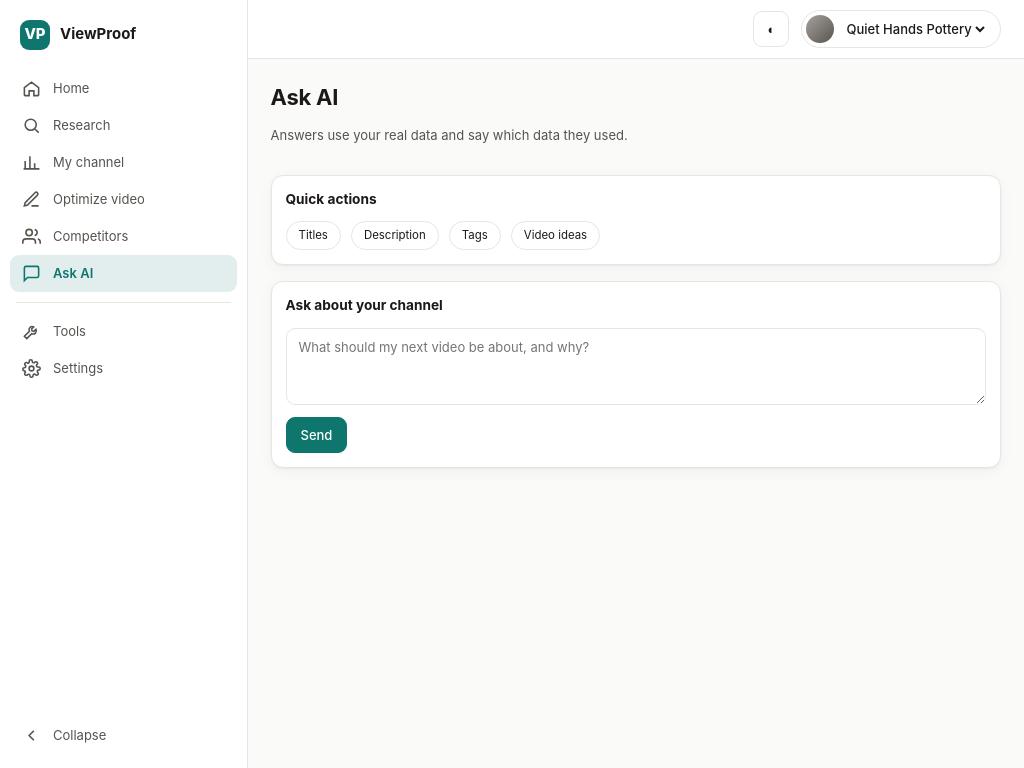
Test: Ask AI › ask: unknown citation stays plain text with a warning; answer is never HTML
Type "How am I doing?" into the text box named "Ask about your channel" at {"x": 636, "y": 366}, box [286,328,986,405]
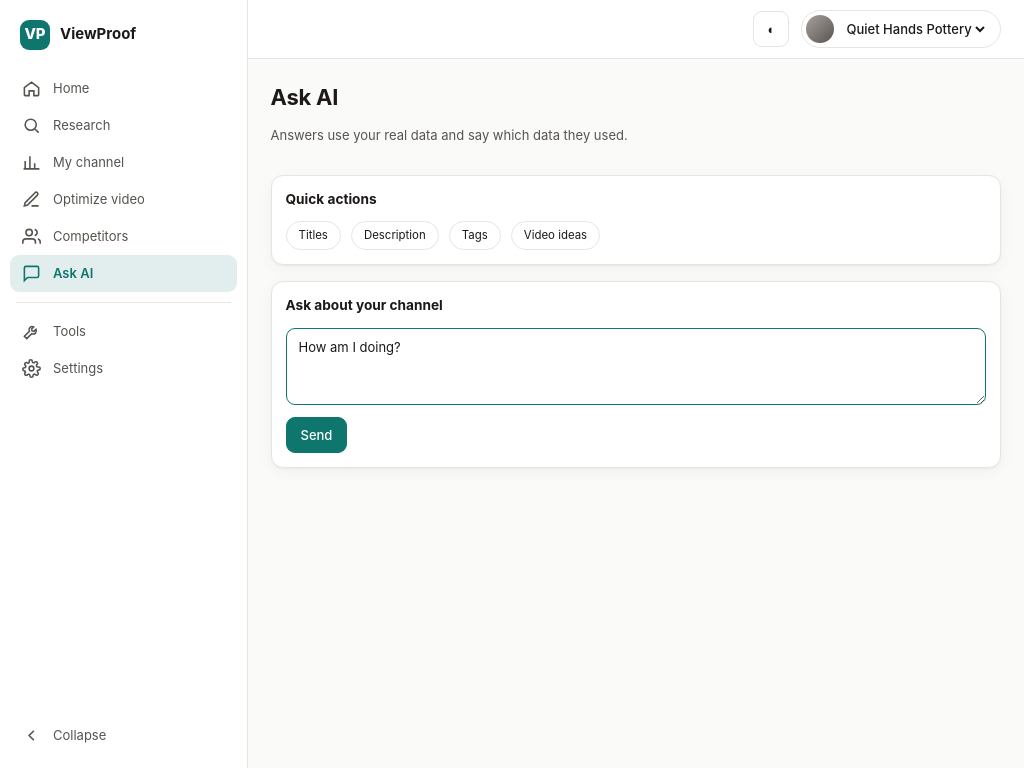
Click the button "Send" at {"x": 316, "y": 435}, box [286,417,347,453]
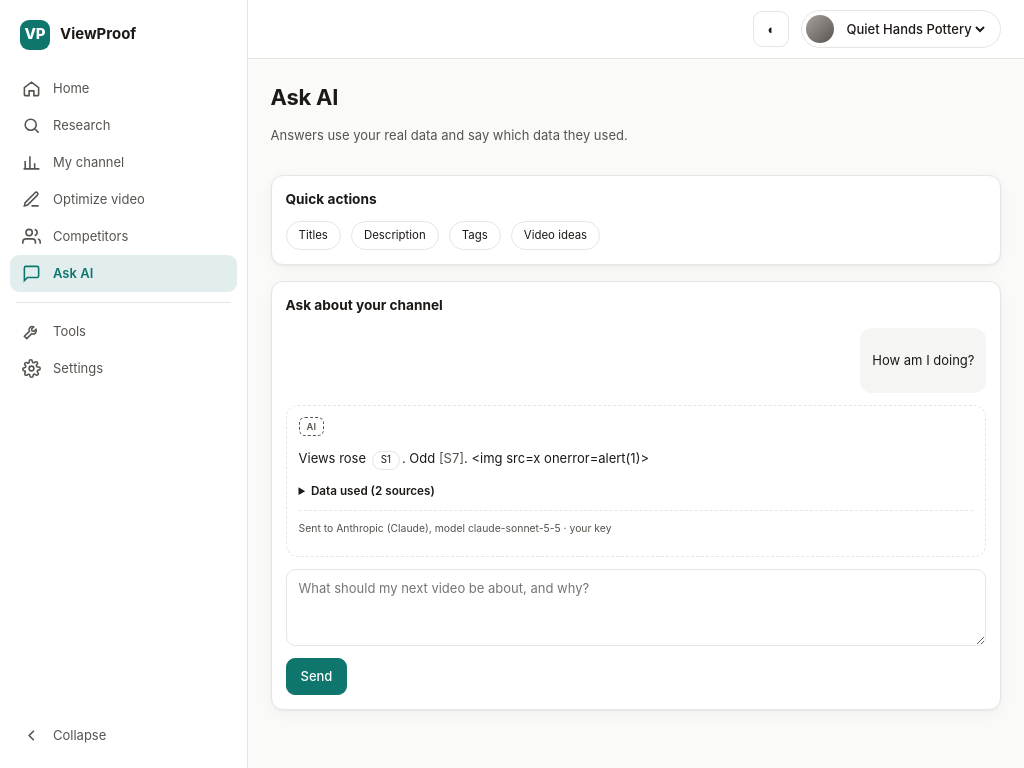
Expected: the text "How am I doing?" is shown, [872,351,974,370]
Expected: the button "S1" is shown, [372,452,400,470]
Expected: the text "Views rose S1 . Odd [S7]. <img src=x onerror=alert(1)>" is shown, [298,450,649,470]
